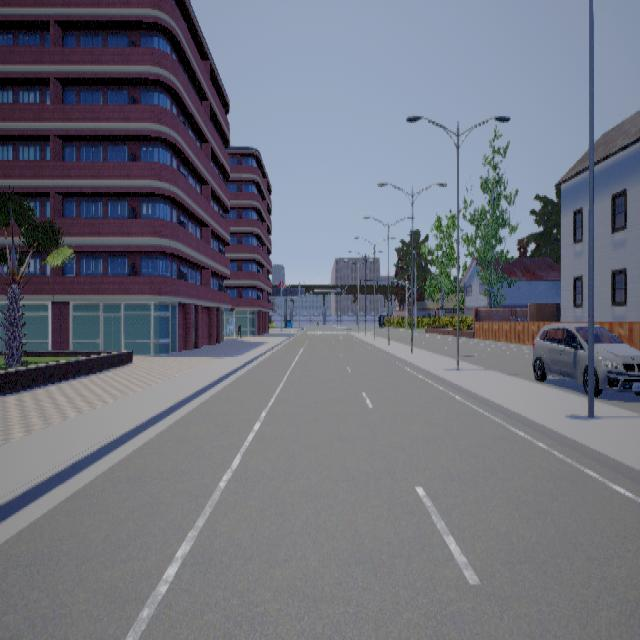vehicle: (530, 306, 640, 396)
